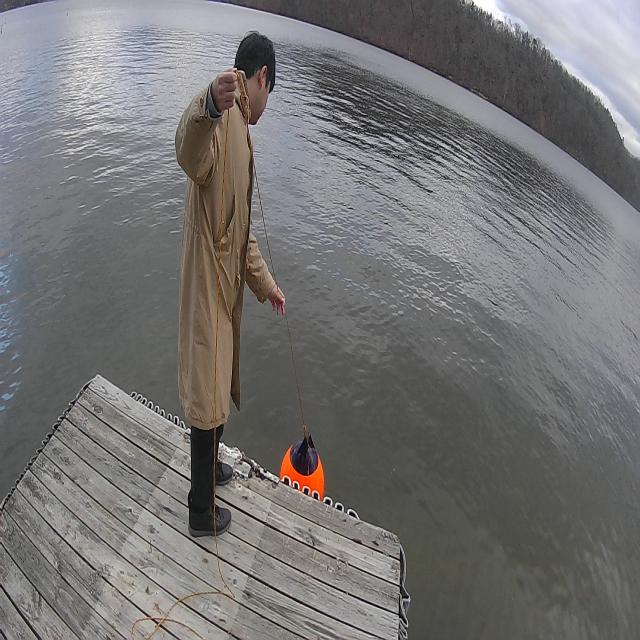Buoy: (274, 444, 326, 501)
